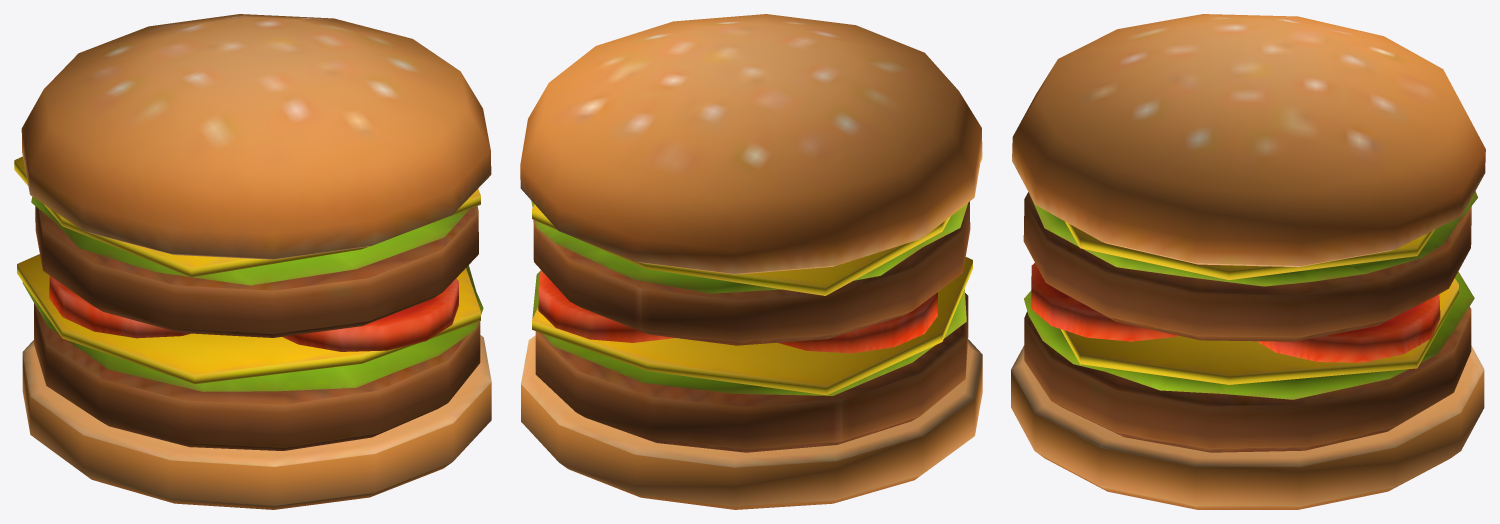
3 renders of one model, left to right at view 1: azimuth 30°, elevation 25°; view 2: azimuth 150°, elevation 25°; view 3: azimuth 270°, elevation 25°, orthographic.
Visible parts, largest first — view 1: HB; view 2: HB; view 3: HB.
Part boxes in pixels (x1=…): HB: x1=14, y1=14, x2=491, y2=509; HB: x1=520, y1=14, x2=982, y2=509; HB: x1=1011, y1=14, x2=1485, y2=509.
Size of the model in its own units: 0.7768 by 0.6738 by 0.7992.
Materials: 1 (1 with a texture image).
